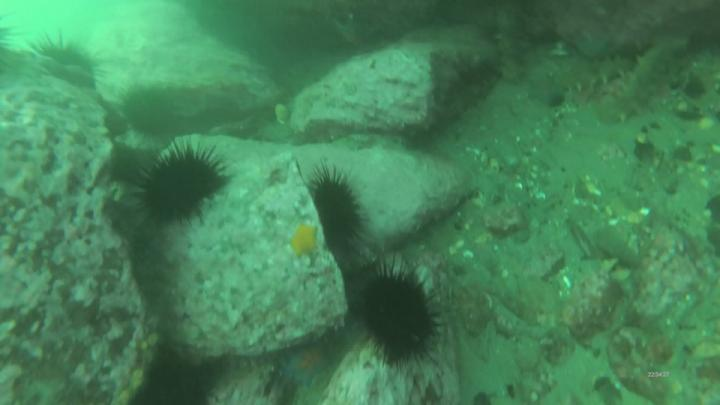echinus: (362, 269, 438, 361), (142, 152, 220, 214), (321, 173, 364, 248), (123, 89, 171, 130), (33, 39, 100, 66)
holothurian: (603, 32, 681, 121), (552, 60, 632, 90), (498, 9, 526, 82)
scallop: (275, 102, 290, 125)
starfish: (289, 347, 333, 382), (289, 223, 322, 257)
